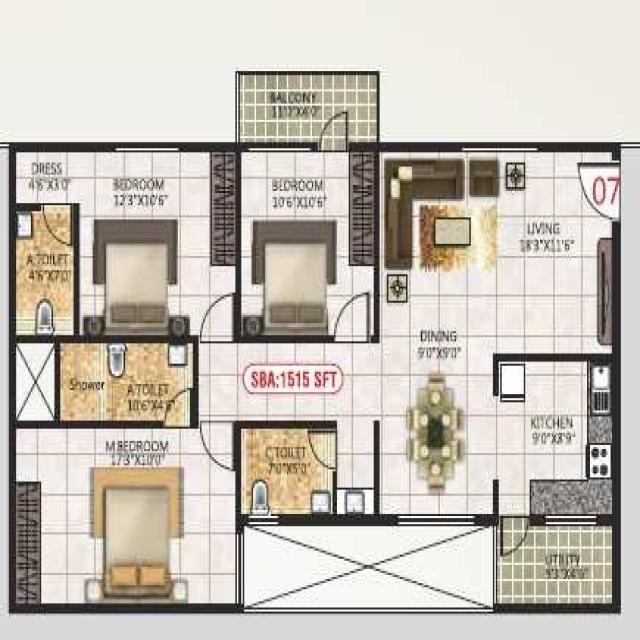Balcony-Sitout: (241, 77, 375, 139)
Bedroom: (245, 154, 375, 336)
Bedroom with Toilet: (13, 345, 237, 609), (18, 155, 234, 335)
Dining: (404, 367, 468, 499)
Enterance-Foyer: (571, 161, 621, 222)
Kitchen: (500, 364, 607, 514)
Living: (383, 157, 611, 350)
Toilet: (59, 346, 189, 421), (244, 434, 334, 507), (19, 213, 70, 333)
Utility: (500, 529, 610, 602)
